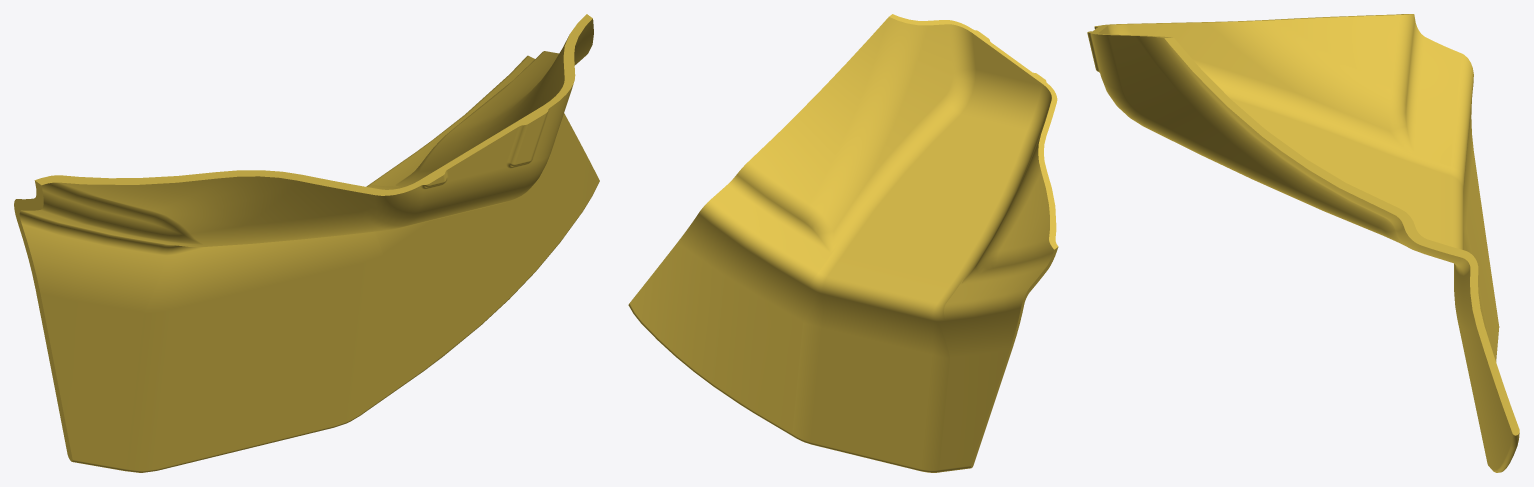
3 renders of one model, left to right at view 1: azimuth 30°, elevation 25°; view 2: azimuth 150°, elevation 25°; view 3: azimuth 270°, elevation 25°, orthographic. The views are drawn at different scales.
Visible parts, largest first — view 1: Body1; view 2: Body1; view 3: Body1.
Boxes of the visible parts, left/top/right/bottom form: Body1: left=14, top=14, right=599, bottom=472; Body1: left=628, top=14, right=1058, bottom=472; Body1: left=1087, top=14, right=1519, bottom=472.
Bounding box in the file's own units: 1560 × 1278 × 1114.
